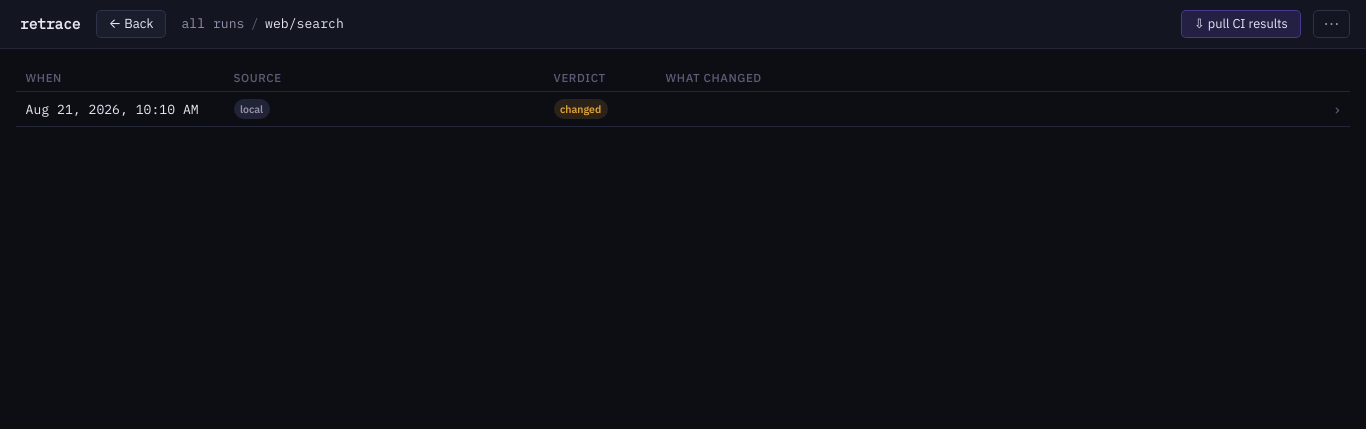
the three verbs › the a key POSTs to accept — the endpoint, not just the notice
Click the text "Aug 21, 2026, 10:10 AM" at (112, 109), box x1=26 y1=101 x2=199 y2=118
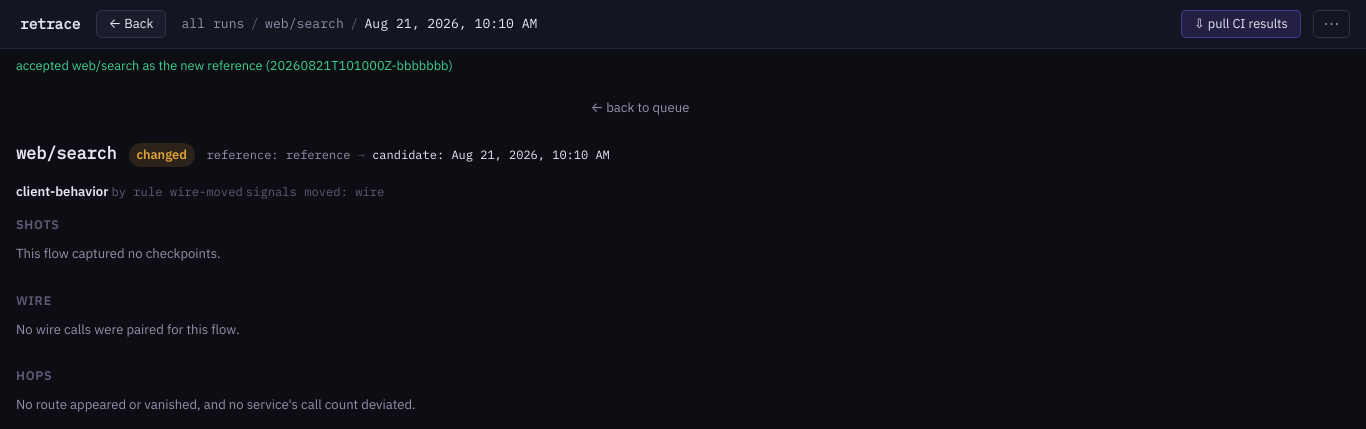
Expected: the text with class "notice" shows "accepted web/search as the new reference", x1=16 y1=57 x2=453 y2=74
